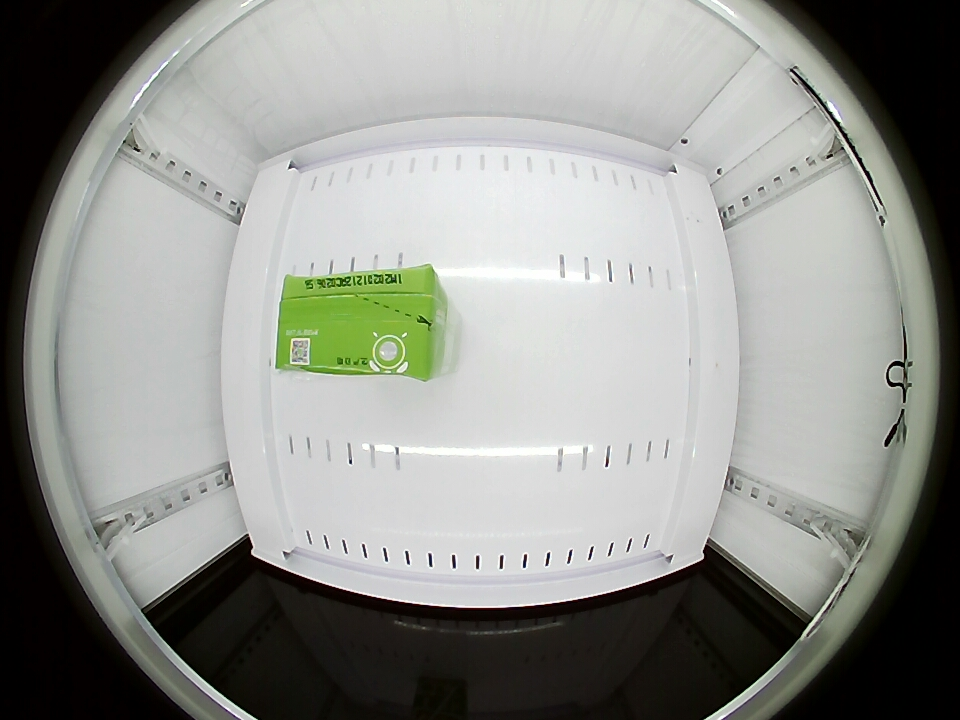mengniuzaocan: (275, 269, 445, 378)
